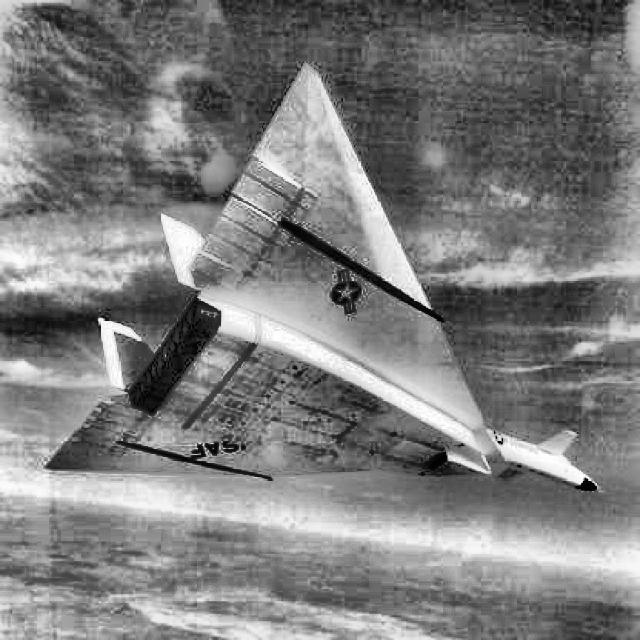XB70: (44, 61, 607, 494)
